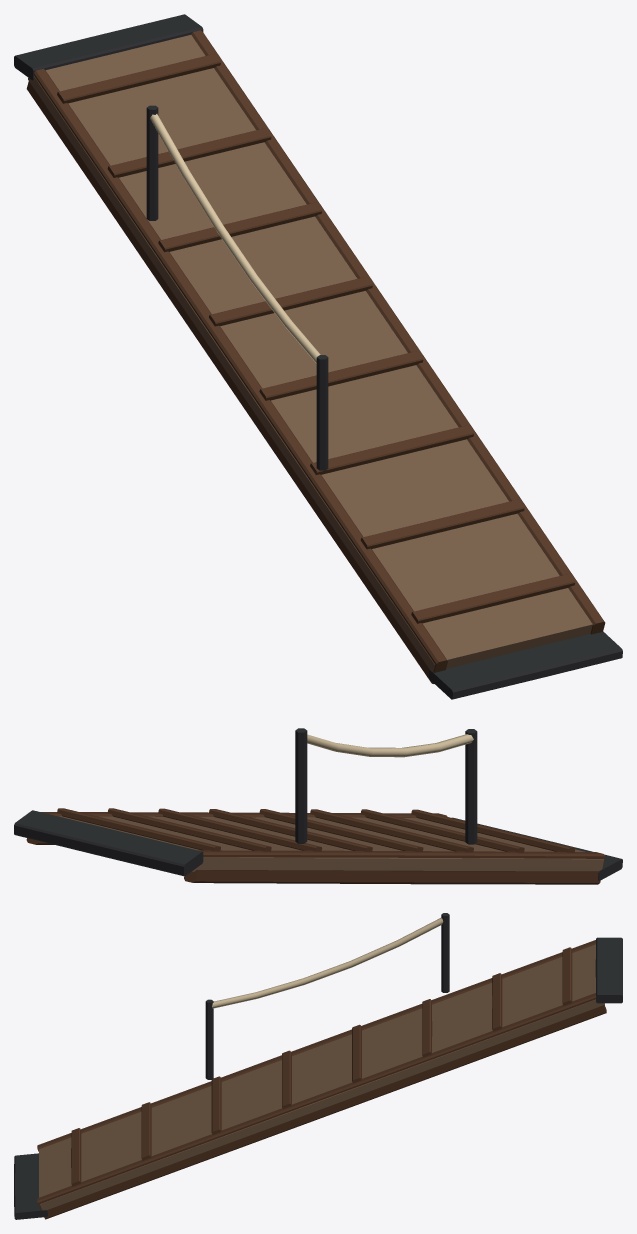
File: prop_gangplank_a.glb
The picture shows the model from 3 angles, top to bottom: view 1: azimuth 30°, elevation 25°; view 2: azimuth 150°, elevation 25°; view 3: azimuth 270°, elevation 25°; orthographic projection. The views are drawn at different scales.
Visible parts, largest first — view 1: plank_ramp, plank_cleat_0, plank_ship_hook, plank_handline; view 2: plank_cleat_0, plank_ramp, plank_ship_hook, plank_handline; view 3: plank_ramp, plank_cleat_0, plank_ship_hook, plank_handline.
Boxes of the visible parts, box(x1,y1,x2,y2) form: plank_ramp: box(28, 35, 592, 671); plank_cleat_0: box(26, 30, 605, 683); plank_ship_hook: box(14, 14, 622, 699); plank_handline: box(150, 114, 320, 363); plank_cleat_0: box(26, 808, 605, 884); plank_ramp: box(59, 816, 603, 871); plank_ship_hook: box(14, 728, 622, 880); plank_handline: box(307, 734, 473, 757); plank_ramp: box(39, 944, 604, 1210); plank_cleat_0: box(37, 940, 606, 1219); plank_ship_hook: box(14, 913, 622, 1219); plank_handline: box(212, 918, 443, 1008).
Bounding box in the file's own units: 0.8 × 1.63 × 3.58.
